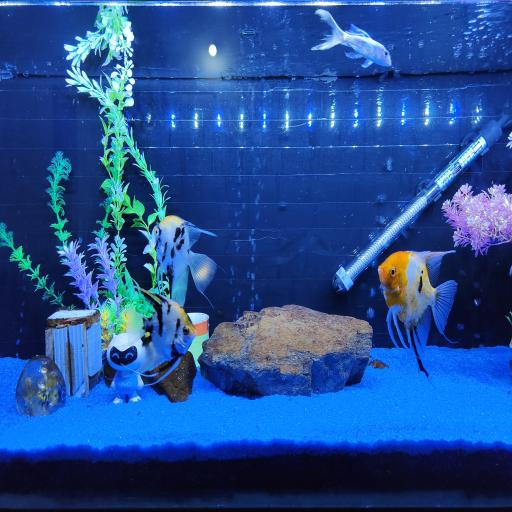Fish: (378, 251, 457, 376), (127, 289, 197, 381), (152, 216, 216, 306), (312, 10, 391, 67)
